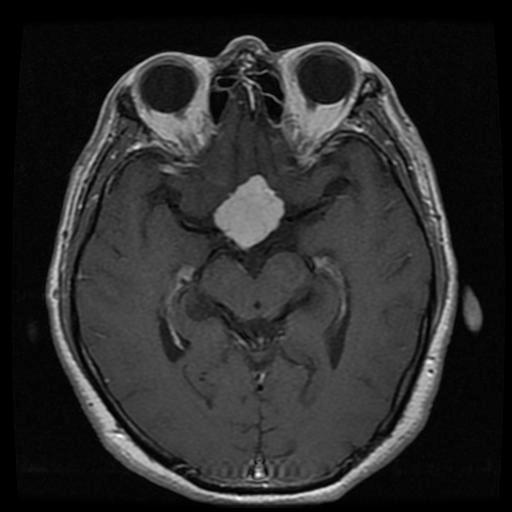Tumour-Meningioma: (197, 179, 299, 264)
